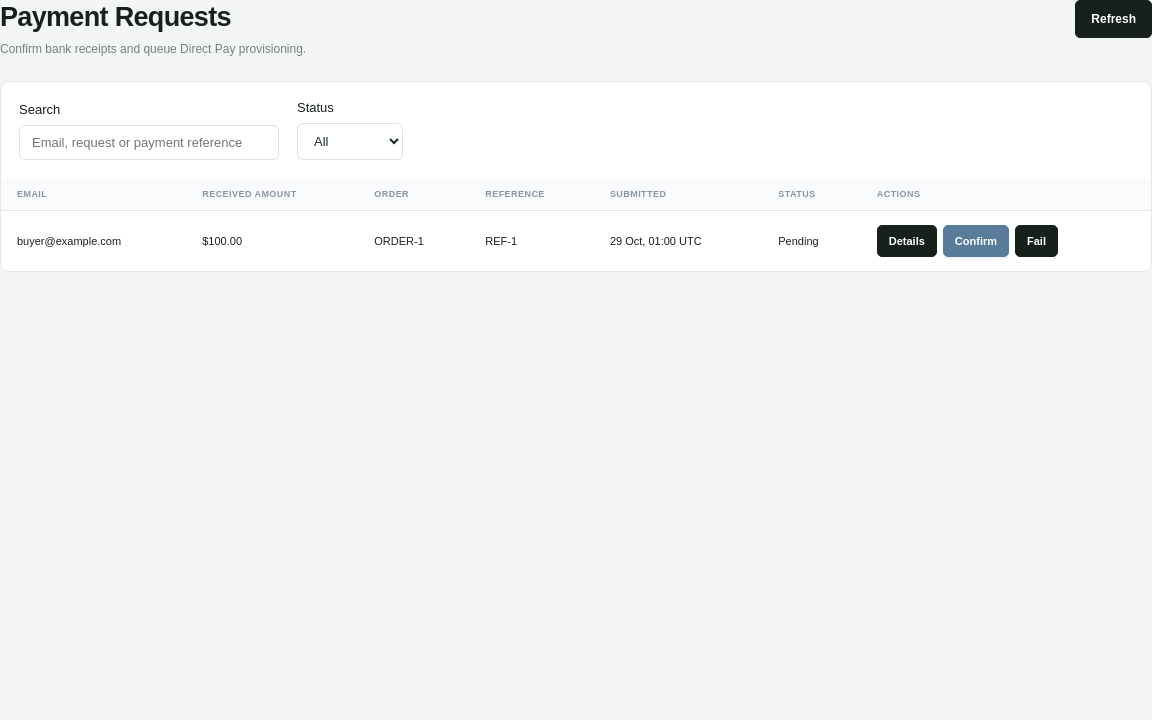
Test: Console payment review › requires independently verified funds before Confirm
Click the button "Confirm" at (976, 241), box [943,225,1009,257]
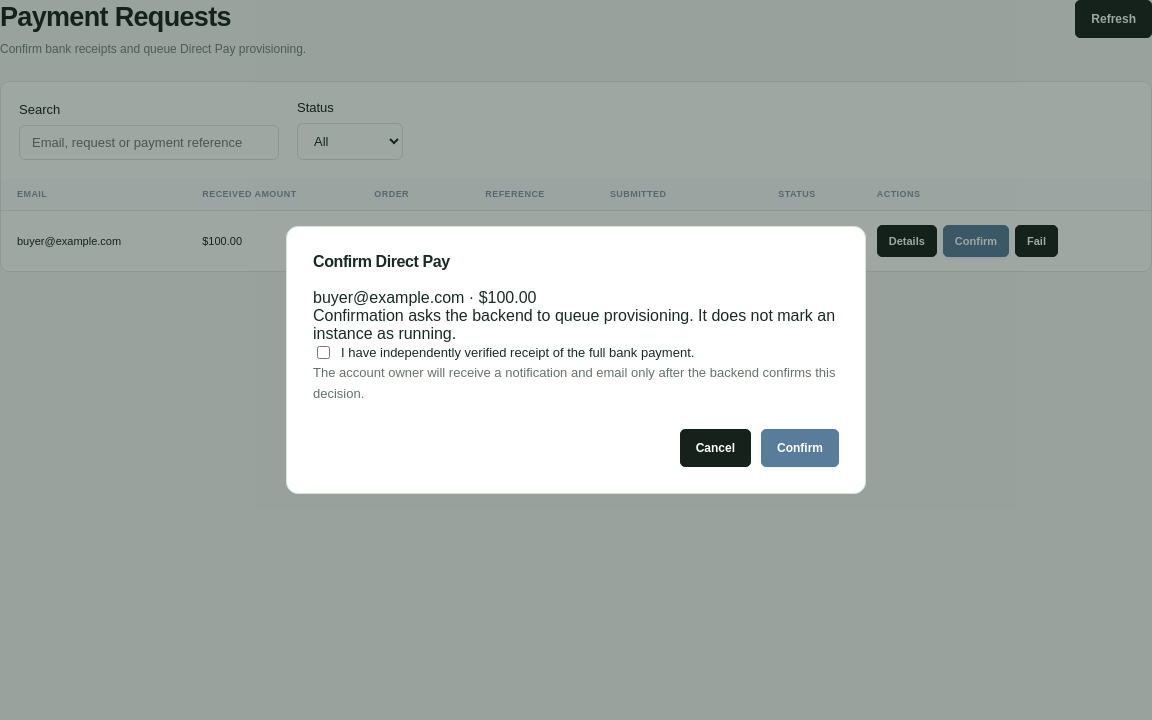
Click the button "Confirm" at (800, 448), box [761,428,839,466]
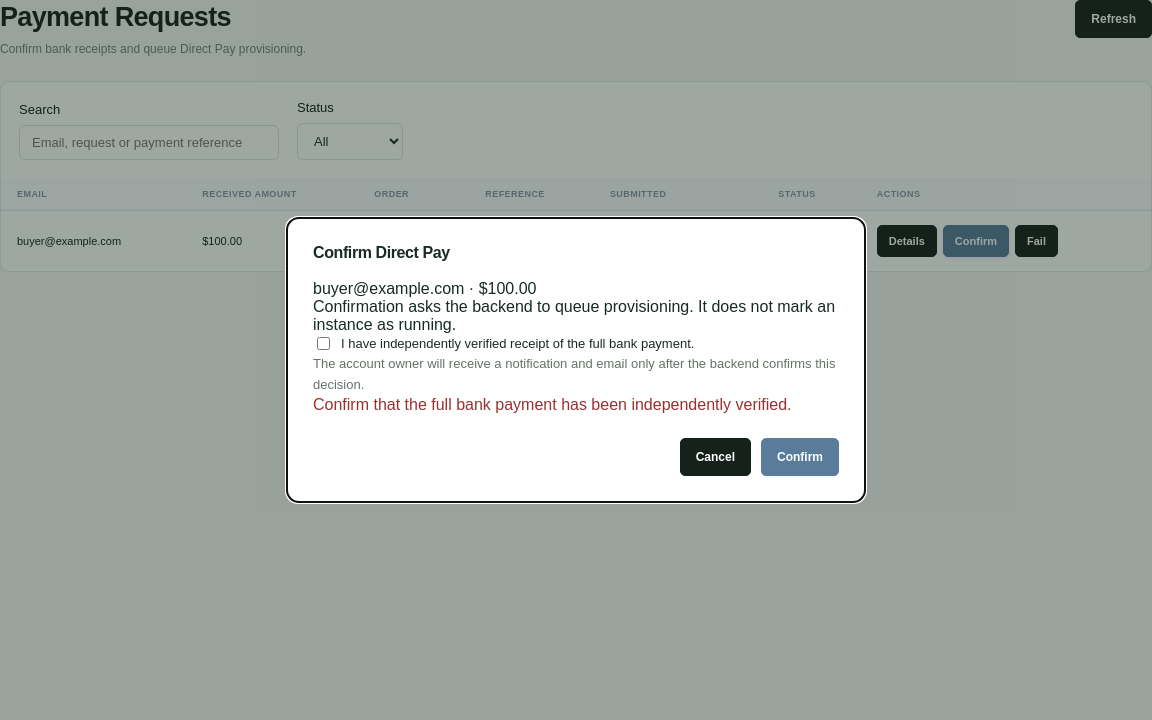
expect the message shows "independently verified": met, box [313,396,792,412]
